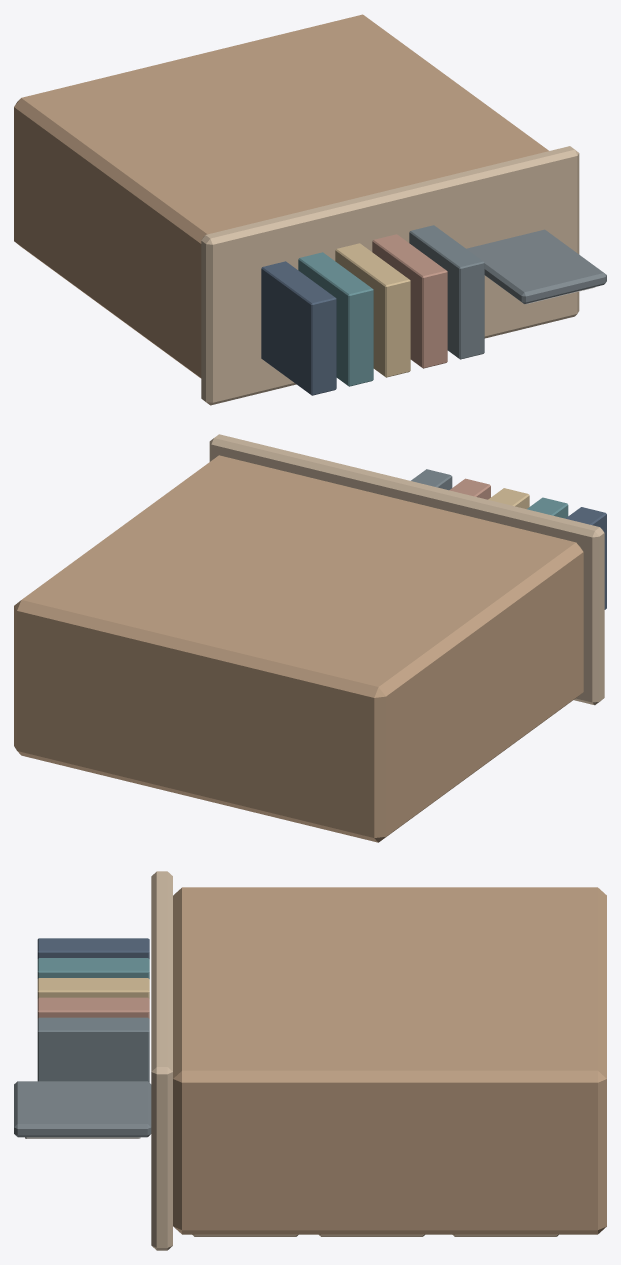
File: prop-finance.glb
The picture shows the model from 3 angles, top to bottom: view 1: azimuth 30°, elevation 25°; view 2: azimuth 150°, elevation 25°; view 3: azimuth 270°, elevation 25°; orthographic projection. The views are drawn at different scales.
Parts seen in each view (by area): view 1: 0000__finance_cabinet, 0001__cabinet_top, 0008__ledger_book, 0013__finance_frame, 0009__ledger_book, 0010__ledger_book, 0011__ledger_book, 0012__ledger_book; view 2: 0000__finance_cabinet, 0001__cabinet_top, 0008__ledger_book, 0012__ledger_book, 0009__ledger_book, 0010__ledger_book, 0011__ledger_book; view 3: 0000__finance_cabinet, 0001__cabinet_top, 0013__finance_frame, 0012__ledger_book, 0011__ledger_book, 0008__ledger_book, 0009__ledger_book, 0010__ledger_book.
Boxes of the visible parts, left/top/right/bottom form: 0000__finance_cabinet: left=14, top=14, right=548, bottom=378; 0001__cabinet_top: left=201, top=146, right=579, bottom=405; 0008__ledger_book: left=261, top=261, right=336, bottom=395; 0013__finance_frame: left=466, top=229, right=606, bottom=303; 0009__ledger_book: left=298, top=252, right=373, bottom=386; 0010__ledger_book: left=335, top=243, right=410, bottom=377; 0011__ledger_book: left=372, top=234, right=447, bottom=368; 0012__ledger_book: left=409, top=225, right=484, bottom=359; 0000__finance_cabinet: left=14, top=455, right=583, bottom=842; 0001__cabinet_top: left=209, top=434, right=604, bottom=705; 0008__ledger_book: left=566, top=507, right=606, bottom=609; 0012__ledger_book: left=411, top=469, right=452, bottom=490; 0009__ledger_book: left=527, top=497, right=568, bottom=518; 0010__ledger_book: left=488, top=488, right=529, bottom=508; 0011__ledger_book: left=449, top=478, right=490, bottom=499; 0000__finance_cabinet: left=173, top=887, right=606, bottom=1234; 0001__cabinet_top: left=151, top=871, right=172, bottom=1250; 0013__finance_frame: left=14, top=1081, right=151, bottom=1137; 0012__ledger_book: left=37, top=1017, right=149, bottom=1082; 0011__ledger_book: left=37, top=997, right=149, bottom=1018; 0008__ledger_book: left=37, top=938, right=149, bottom=958; 0009__ledger_book: left=37, top=958, right=149, bottom=978; 0010__ledger_book: left=37, top=978, right=149, bottom=998.
Bounding box in the file's own units: 1.31 × 0.579 × 1.64.
